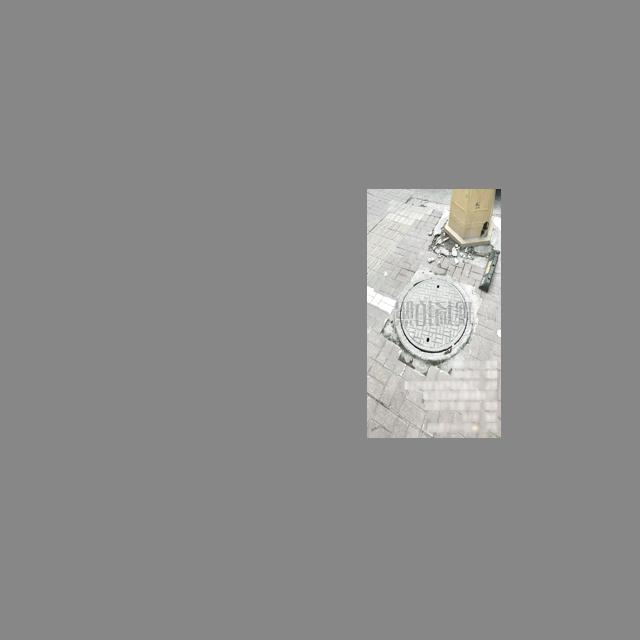good: (395, 274, 474, 360)
